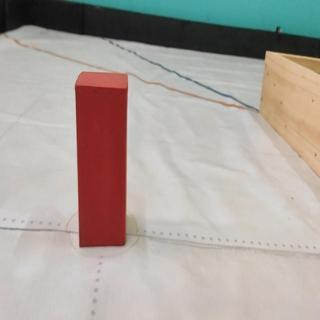redbox: (74, 71, 128, 246)
